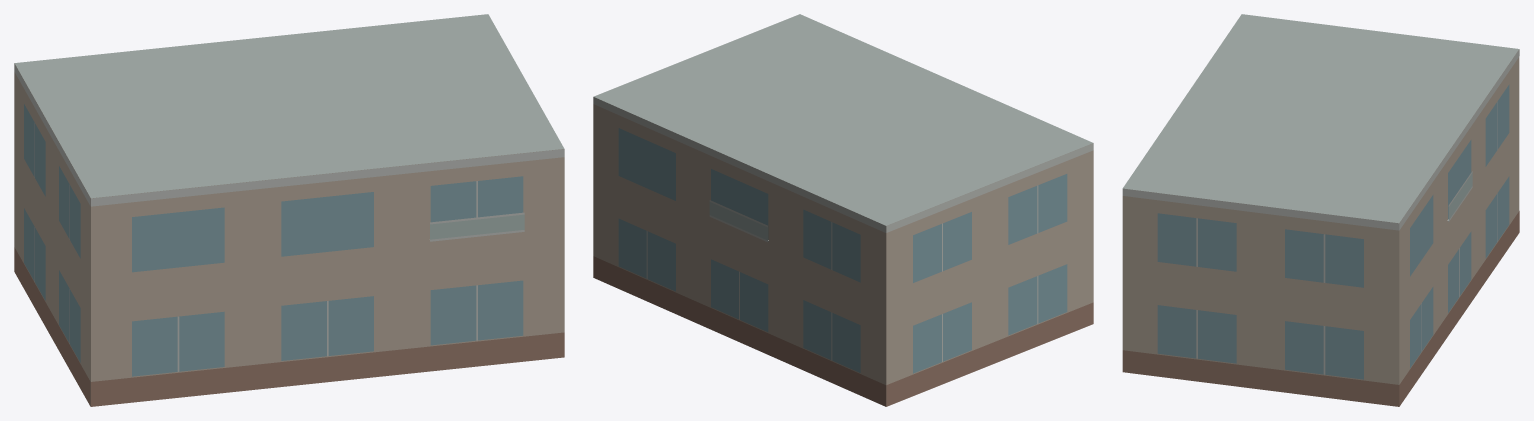
File: survey-upis-32876094.glb
3 renders of one model, left to right at view 1: azimuth 30°, elevation 25°; view 2: azimuth 150°, elevation 25°; view 3: azimuth 270°, elevation 25°, orthographic. The views are drawn at different scales.
Visible parts, largest first — view 1: survey-upis-32876094.tmp; view 2: survey-upis-32876094.tmp; view 3: survey-upis-32876094.tmp.
Part boxes in pixels (box(x1,y1,x2,y2)): survey-upis-32876094.tmp: box(14, 14, 564, 406); survey-upis-32876094.tmp: box(593, 14, 1093, 406); survey-upis-32876094.tmp: box(1122, 14, 1519, 406).
Size of the model in its own units: 14.92 by 6.1 by 11.96.
